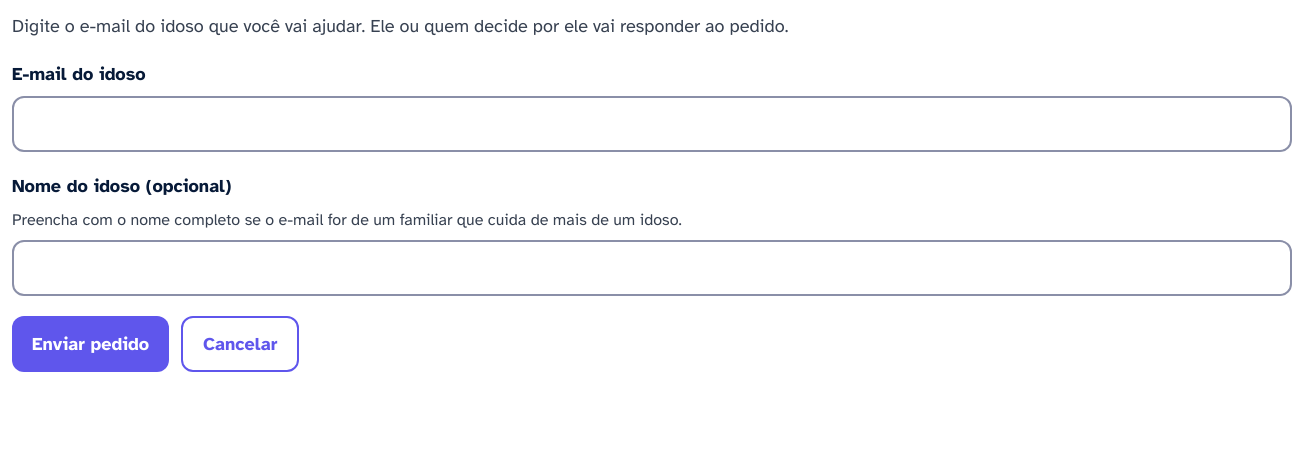
Test: SolicitarVinculo › status 400 mostra a mensagem fixa e nunca o corpo da resposta
Type "idoso.teste@exemplo.test" into the field labelled "E-mail do idoso" at (652, 124), box top-left (12, 96), bottom-right (1292, 152)
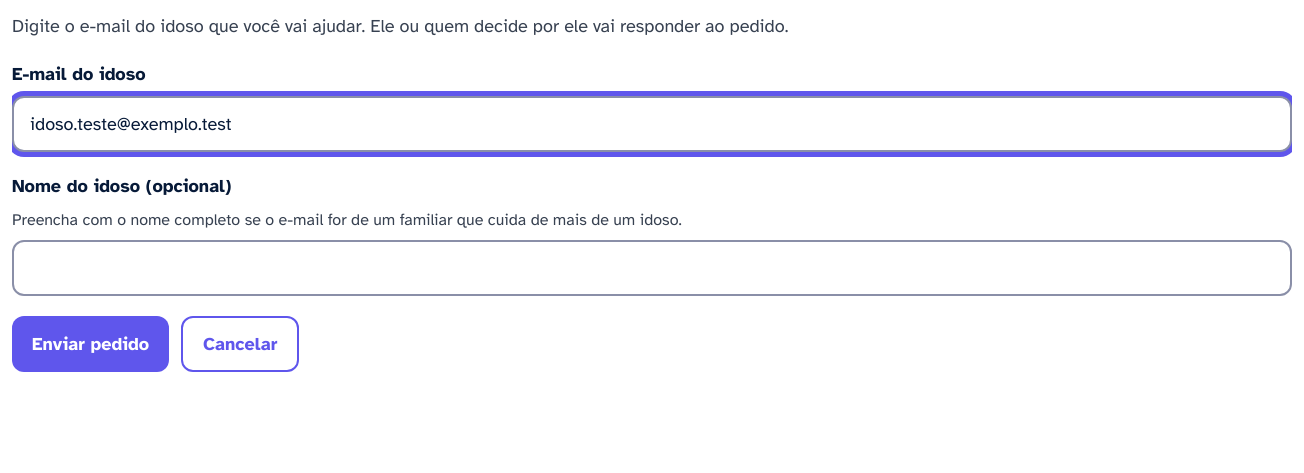
Click the button "Enviar pedido" at (90, 344), box top-left (12, 316), bottom-right (169, 372)
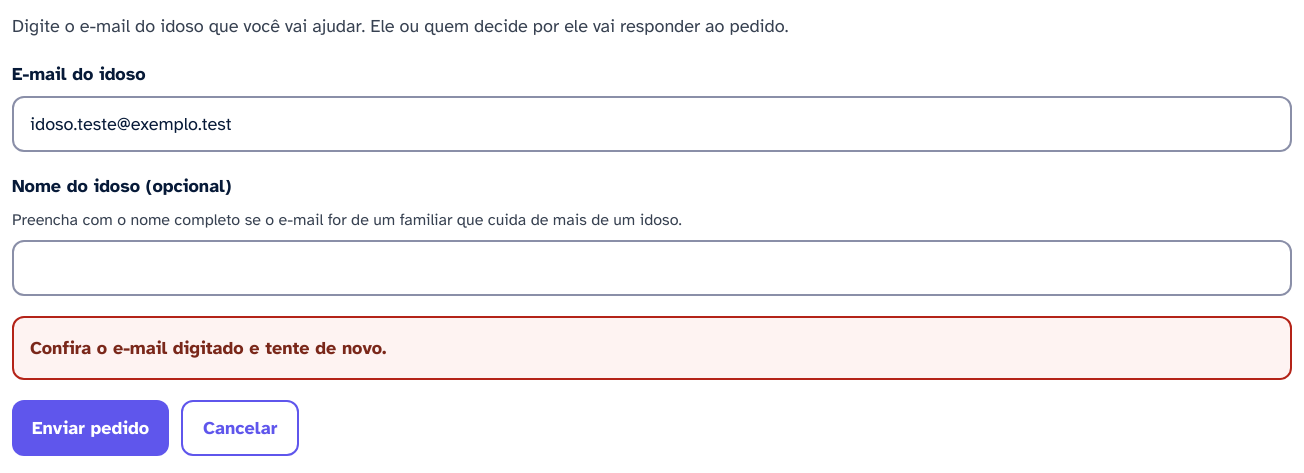
Expected: the button "Enviar pedido" is enabled, top-left (12, 400), bottom-right (169, 456)
Expected: the message reads "Confira o e-mail digitado e tente de novo.", top-left (30, 337), bottom-right (386, 359)
